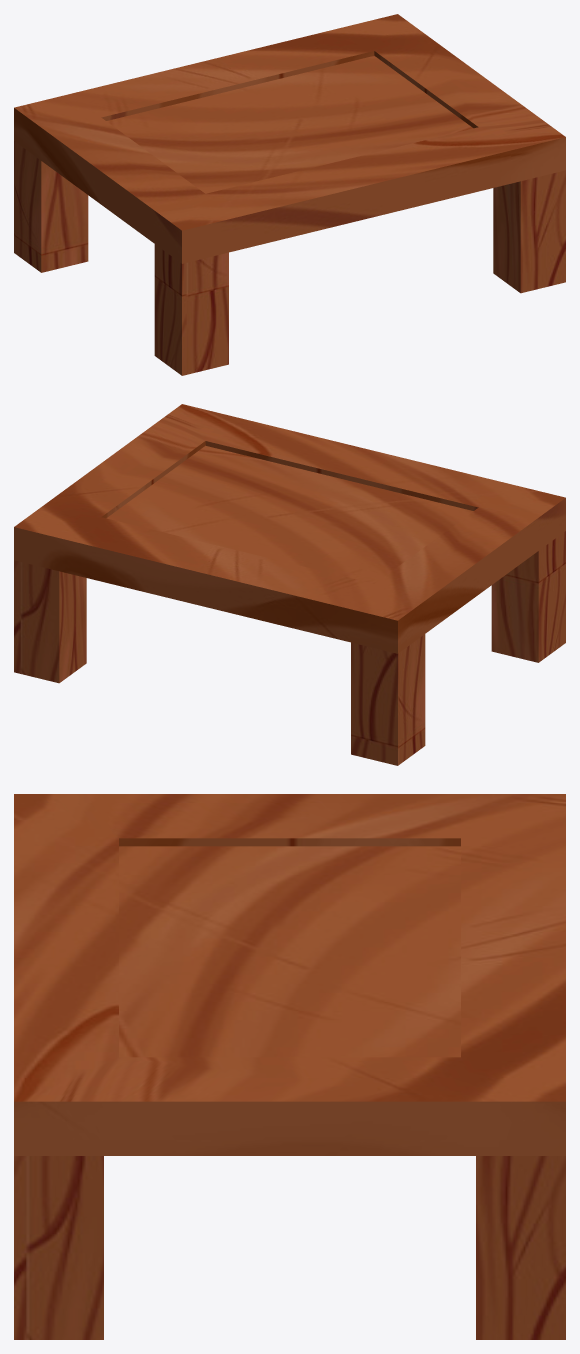
File: Mesa.obj
3 renders of one model, top to bottom at view 1: azimuth 30°, elevation 25°; view 2: azimuth 150°, elevation 25°; view 3: azimuth 270°, elevation 25°, orthographic. The views are drawn at different scales.
Visible parts, largest first — view 1: cofee_table_Mesh; view 2: cofee_table_Mesh; view 3: cofee_table_Mesh.
Part boxes in pixels (left/top/right/bottom): cofee_table_Mesh: left=14, top=14, right=565, bottom=375; cofee_table_Mesh: left=14, top=404, right=565, bottom=765; cofee_table_Mesh: left=14, top=794, right=565, bottom=1339.
Bounding box in the file's own units: 1.75 × 0.632 × 1.33.
6 materials, 6 textured.
